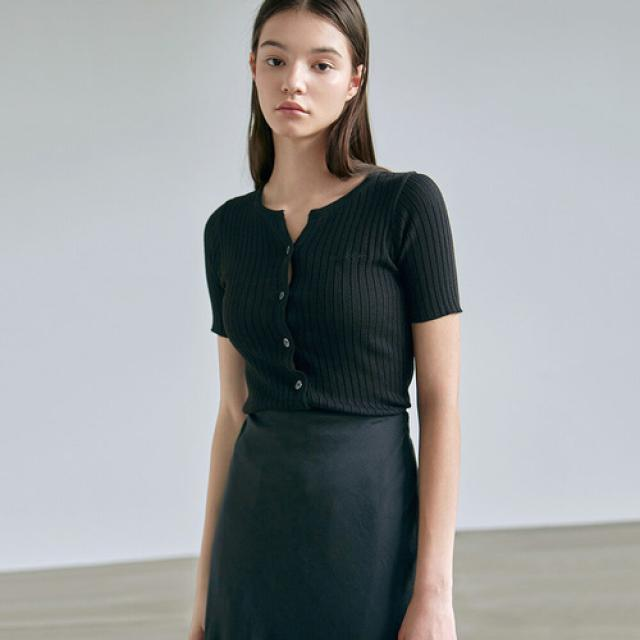dress: (205, 169, 459, 409)
